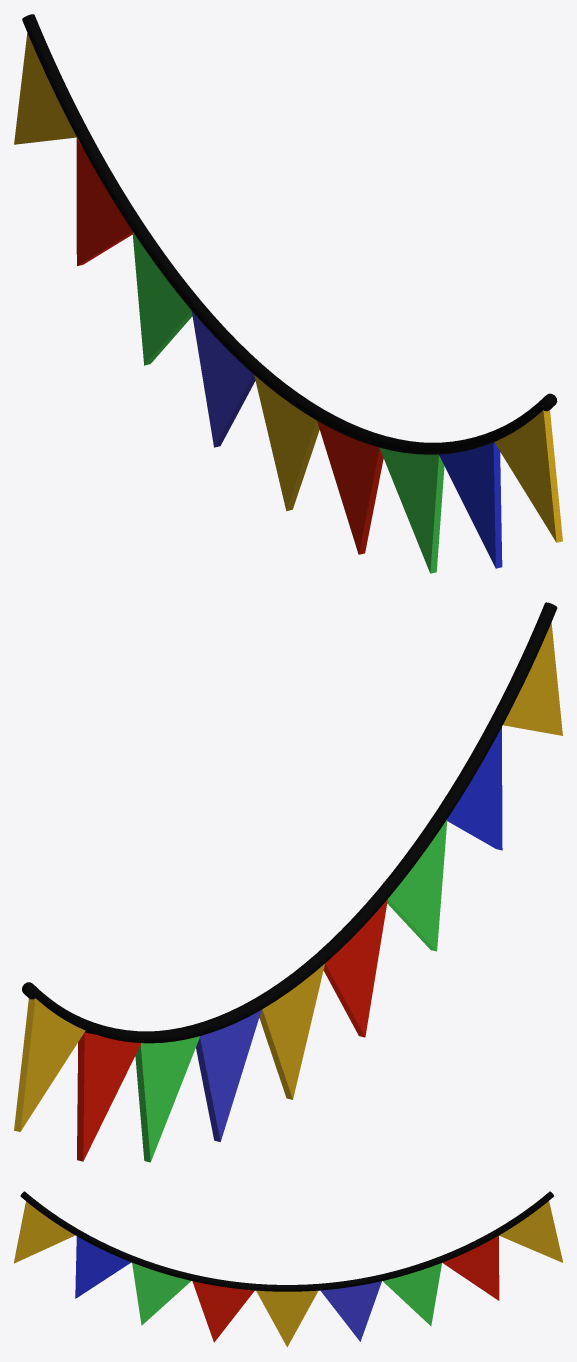
File: banderines fiesta 2.fbx
3 renders of one model, top to bottom at view 1: azimuth 30°, elevation 25°; view 2: azimuth 150°, elevation 25°; view 3: azimuth 270°, elevation 25°, orthographic. The views are drawn at different scales.
Parts seen in each view (by area): view 1: Plane.008; view 2: Plane.008; view 3: Plane.008.
Boxes of the visible parts, x1,y1,x2,y2 form: Plane.008: [14, 14, 562, 573]; Plane.008: [14, 602, 562, 1162]; Plane.008: [14, 1191, 562, 1347].
Bounding box in the file's own units: 4 × 100 × 322.
